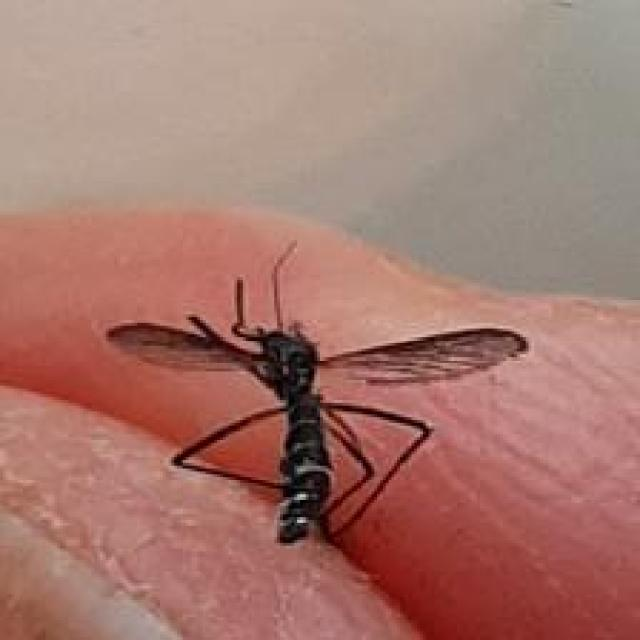Aedes albopictus: (104, 239, 530, 547)
